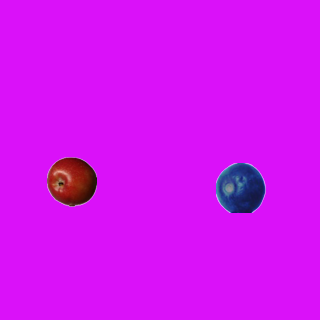Apple Braeburn: (46, 156, 96, 206)
Huckleberry: (215, 162, 265, 212)
